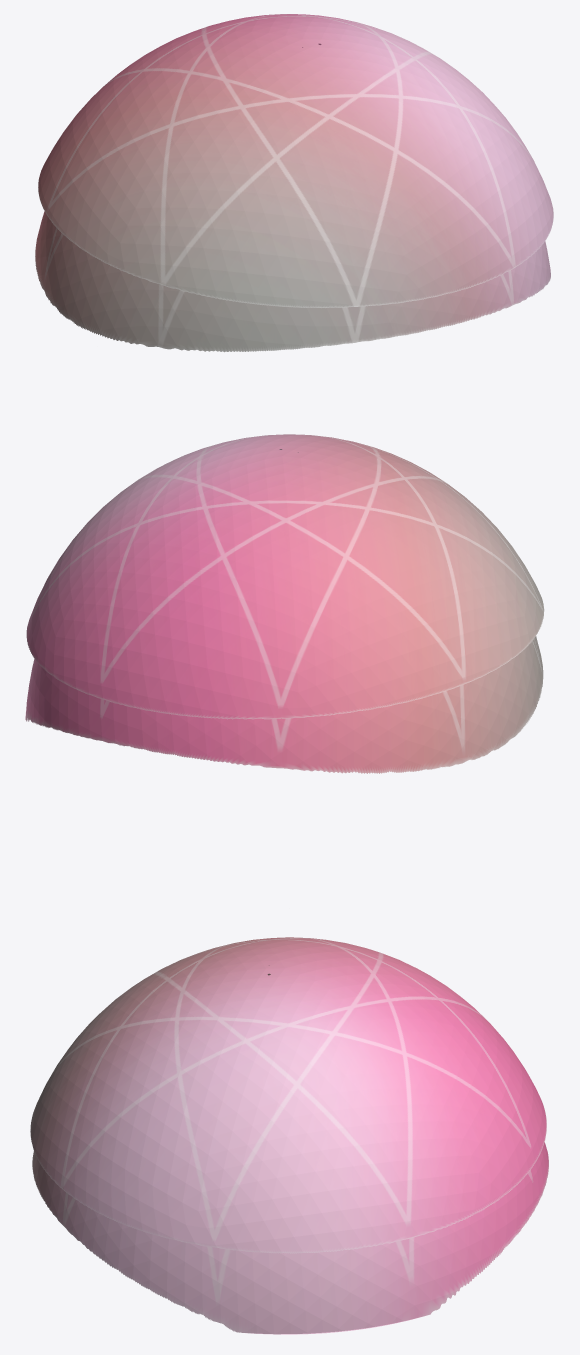
The model's file is obj_capsule_top.obj.
The picture shows the model from 3 angles, top to bottom: view 1: azimuth 30°, elevation 25°; view 2: azimuth 150°, elevation 25°; view 3: azimuth 270°, elevation 25°; orthographic projection.
Visible parts, largest first — view 1: Object.3; view 2: Object.3; view 3: Object.3.
Boxes of the visible parts, box(x1,y1,x2,y2) form: Object.3: box(35, 14, 553, 352); Object.3: box(25, 434, 544, 773); Object.3: box(30, 937, 548, 1334).
Bounding box in the file's own units: 23.96 × 16.95 × 23.96.
3 materials, 1 textured.
